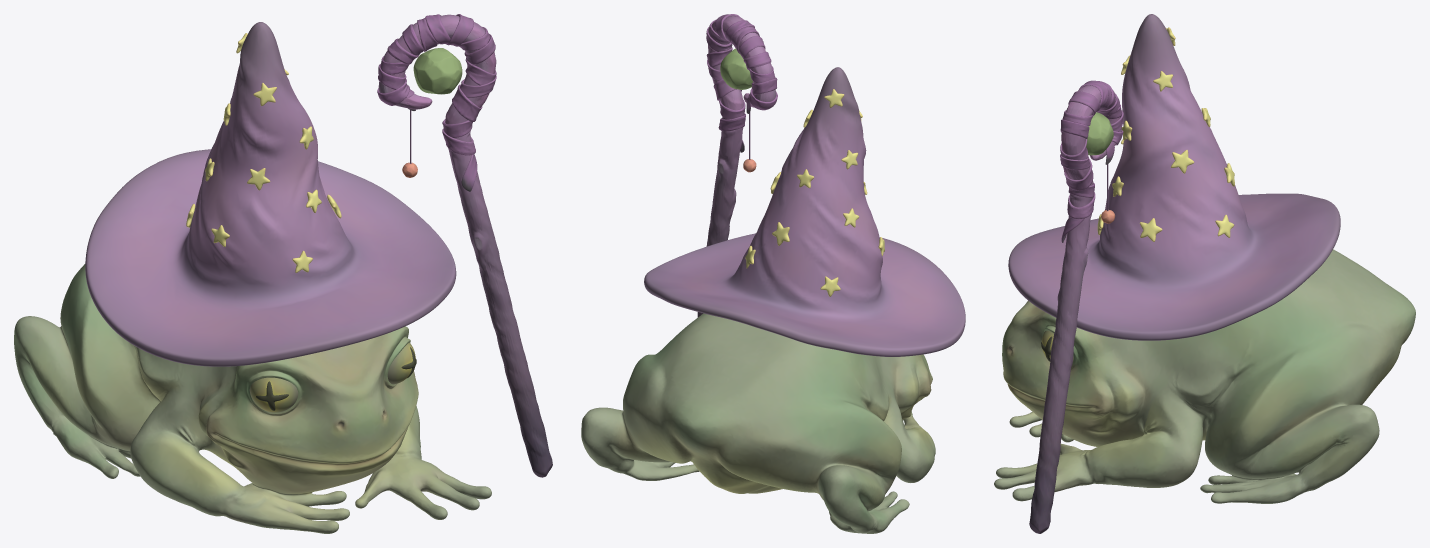
The model's file is frog5.fbx.
The picture shows the model from 3 angles, left to right: view 1: azimuth 30°, elevation 25°; view 2: azimuth 150°, elevation 25°; view 3: azimuth 270°, elevation 25°; orthographic projection. The views are drawn at different scales.
Visible parts, largest first — view 1: Merged_PM3D_Cylinder3D1_1, Merged_PM3D_Cylinder3D1_1_Merged_PM3D_Cylinder3D1_1_0.001; view 2: Merged_PM3D_Cylinder3D1_1, Merged_PM3D_Cylinder3D1_1_Merged_PM3D_Cylinder3D1_1_0.001; view 3: Merged_PM3D_Cylinder3D1_1, Merged_PM3D_Cylinder3D1_1_Merged_PM3D_Cylinder3D1_1_0.001.
Boxes of the visible parts, <box> form: Merged_PM3D_Cylinder3D1_1: <box>14,16,552,529</box>; Merged_PM3D_Cylinder3D1_1_Merged_PM3D_Cylinder3D1_1_0.001: <box>14,14,552,533</box>; Merged_PM3D_Cylinder3D1_1: <box>581,16,965,533</box>; Merged_PM3D_Cylinder3D1_1_Merged_PM3D_Cylinder3D1_1_0.001: <box>581,14,965,533</box>; Merged_PM3D_Cylinder3D1_1: <box>994,14,1406,533</box>; Merged_PM3D_Cylinder3D1_1_Merged_PM3D_Cylinder3D1_1_0.001: <box>994,14,1415,533</box>.
Bounding box in the file's own units: 288 × 315 × 347.
